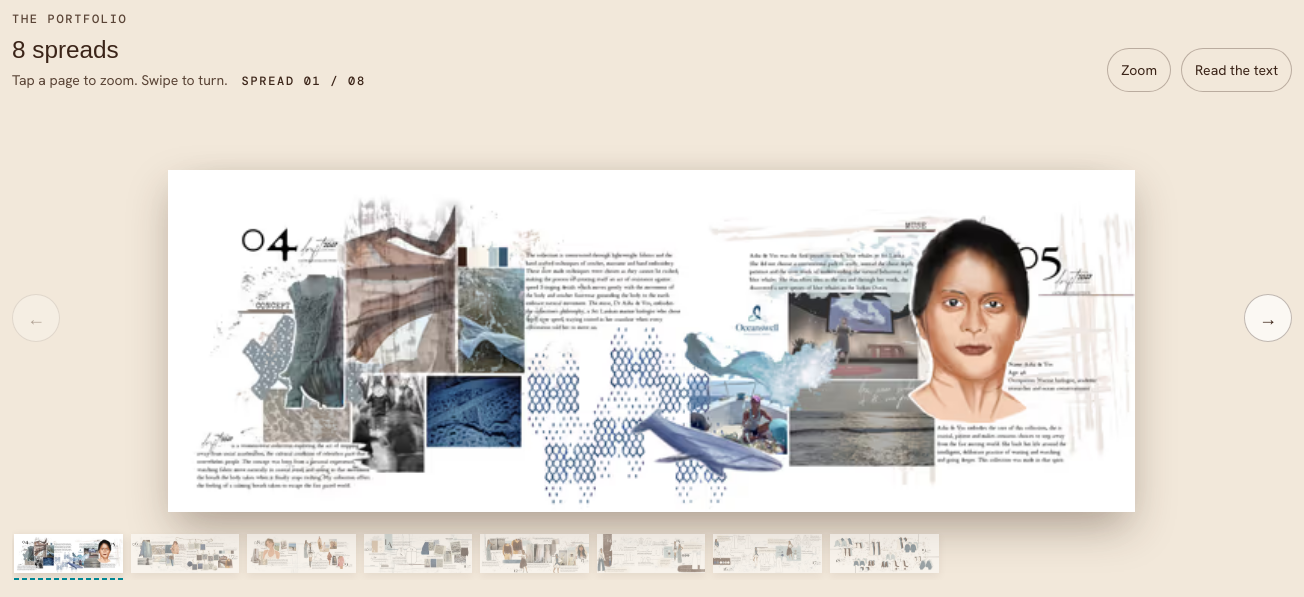
a turn in flight is never cut off: the next one waits until it lands
The width and height of the screenshot is (1304, 597).
Later steps or results of the test are not shown.
Click the button named "Next page" at [1268, 318], box [1244,294,1292,342]
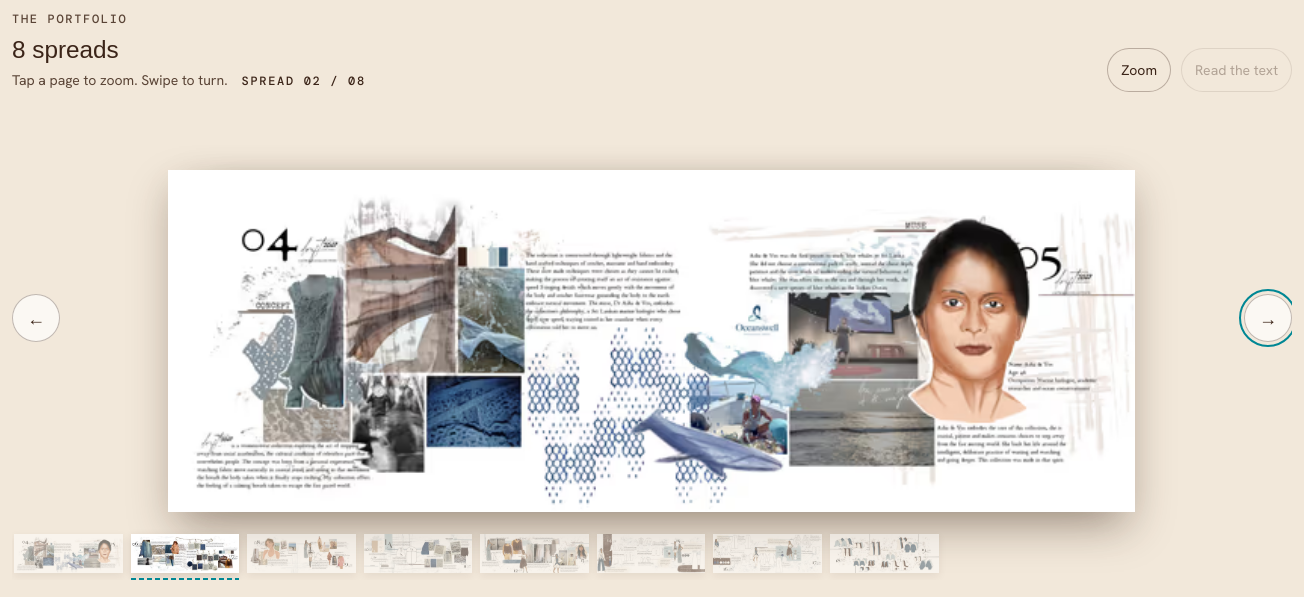
Click the button named "Next page" at [1268, 318], box [1244,294,1292,342]
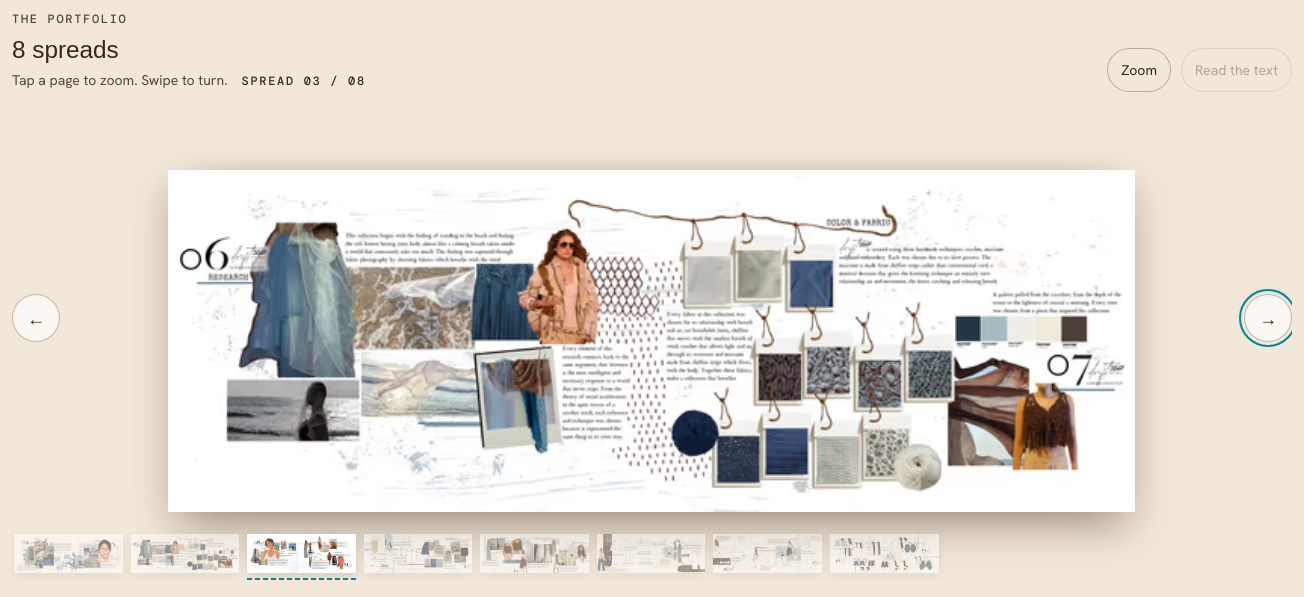
Expected: the text "Spread 03 / 08" is shown, [242,73,366,89]
